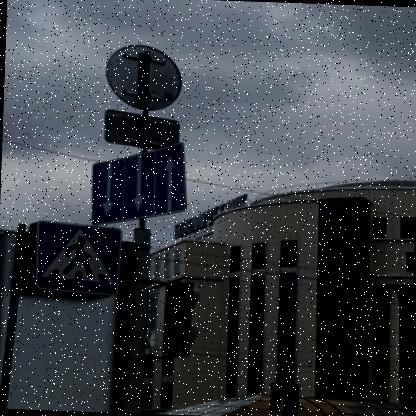crosswalk: (29, 218, 122, 296)
trafficlight: (159, 278, 197, 356), (266, 378, 282, 412), (284, 383, 298, 413)
